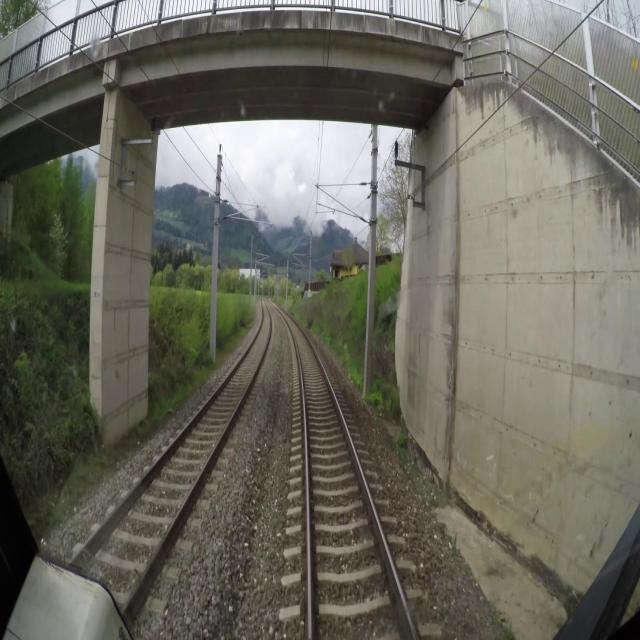rail-track: (78, 299, 269, 605), (283, 313, 413, 639)
